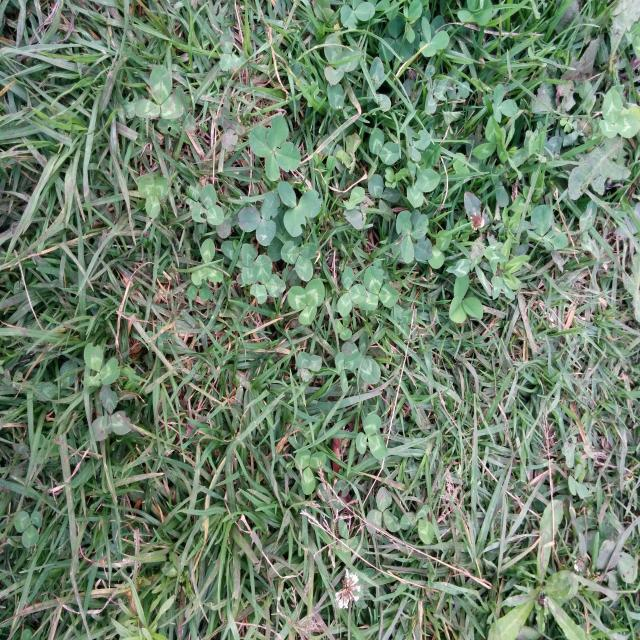Four Leaf Clover: (249, 115, 301, 181)
